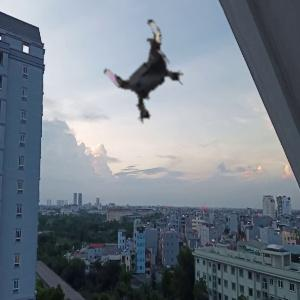drone: (102, 27, 194, 119)
